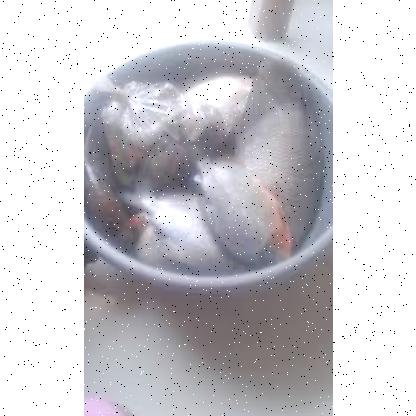ikan-pacu: (198, 158, 292, 268)
